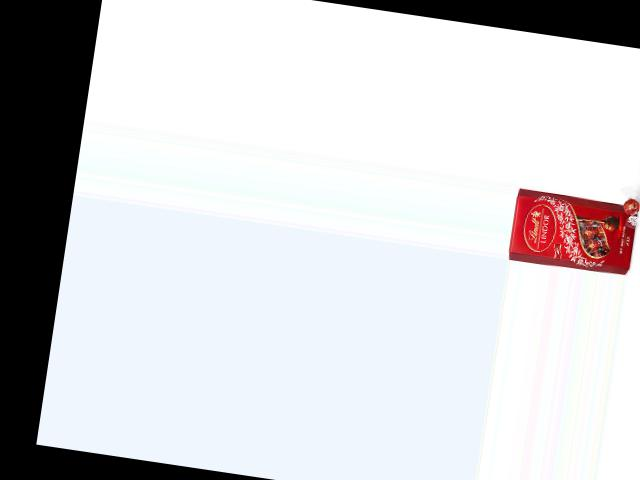chocolate: (508, 180, 639, 275)
